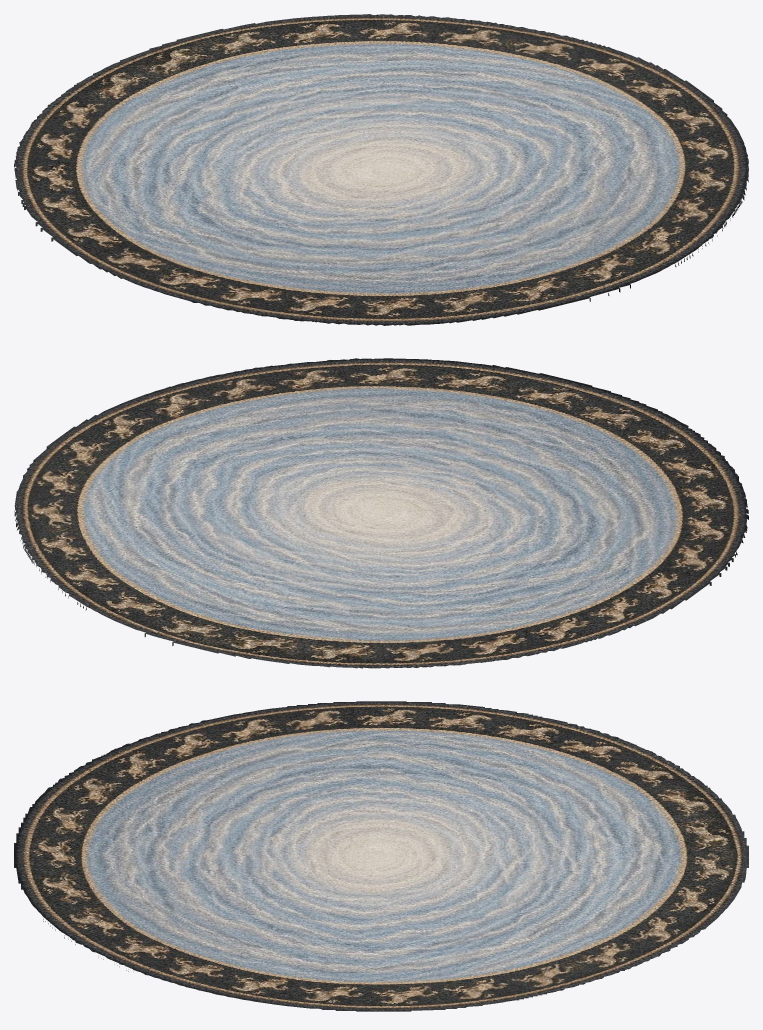
File: SE-11_rug_game.glb
3 views of the same model, one above another, from view 1: azimuth 30°, elevation 25°; view 2: azimuth 150°, elevation 25°; view 3: azimuth 270°, elevation 25° (orthographic).
Visible parts, largest first — view 1: SE-11_rug; view 2: SE-11_rug; view 3: SE-11_rug.
Part boxes in pixels (bbox=[...]): SE-11_rug: bbox=[14, 14, 748, 325]; SE-11_rug: bbox=[14, 358, 748, 668]; SE-11_rug: bbox=[14, 701, 748, 1011].
Bounding box in the file's own units: 2 × 0.012 × 2.
1 material, 1 textured.
